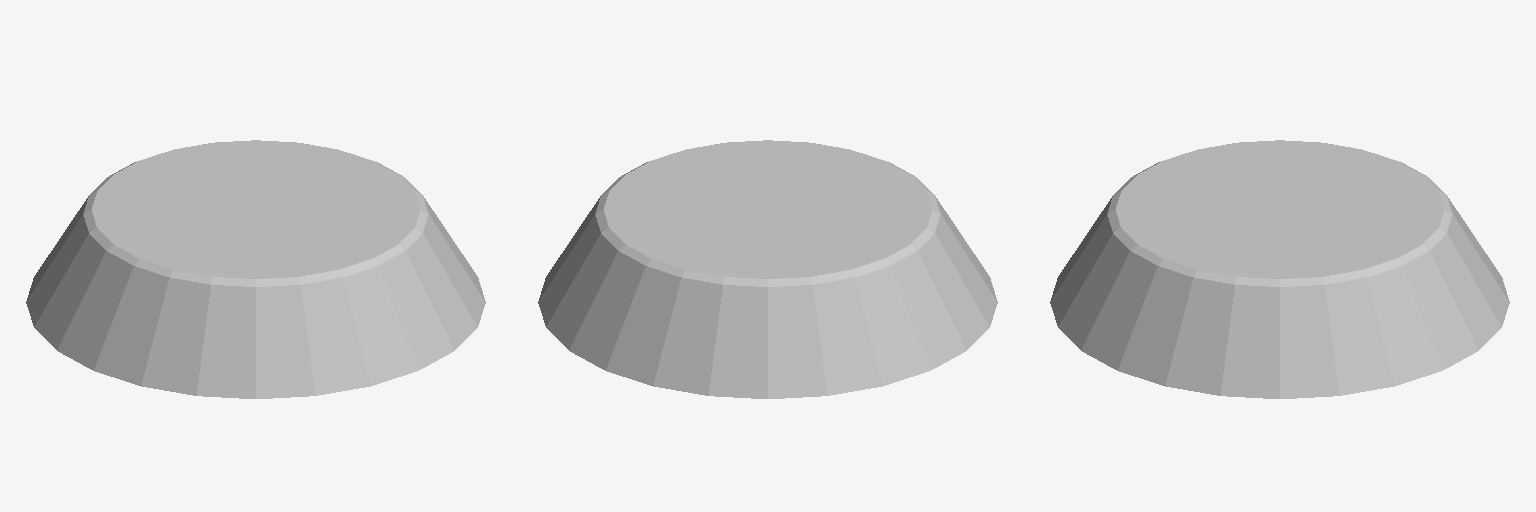
File: Enemy Base.obj
3 views of the same model, side by side, from view 1: azimuth 30°, elevation 25°; view 2: azimuth 150°, elevation 25°; view 3: azimuth 270°, elevation 25° (orthographic).
Visible parts, largest first — view 1: Enemy_Base; view 2: Enemy_Base; view 3: Enemy_Base.
Part boxes in pixels (bbox=[...]): Enemy_Base: bbox=[26, 140, 485, 398]; Enemy_Base: bbox=[538, 140, 997, 398]; Enemy_Base: bbox=[1050, 140, 1509, 398].
Bounding box in the file's own units: 1.1 × 0.2443 × 1.1.